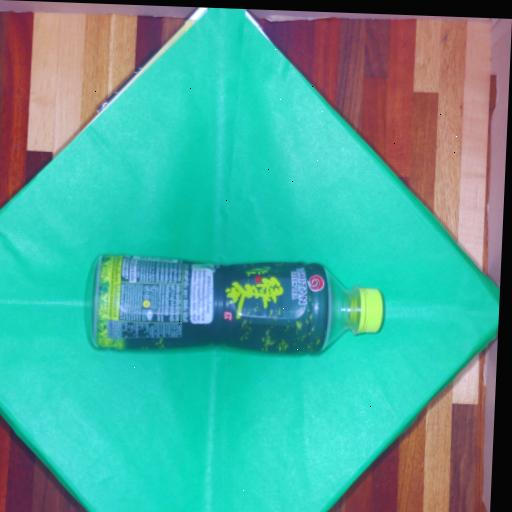bottle: (92, 255, 383, 353)
